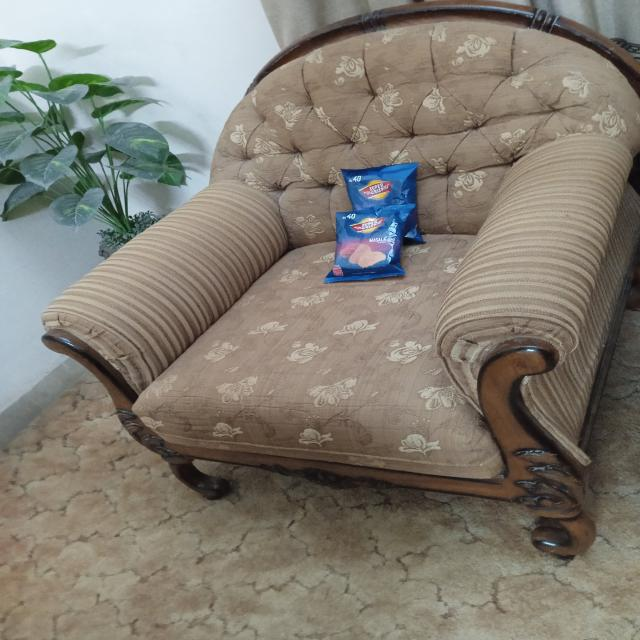Plastic: (338, 217, 400, 280), (342, 168, 420, 214)
